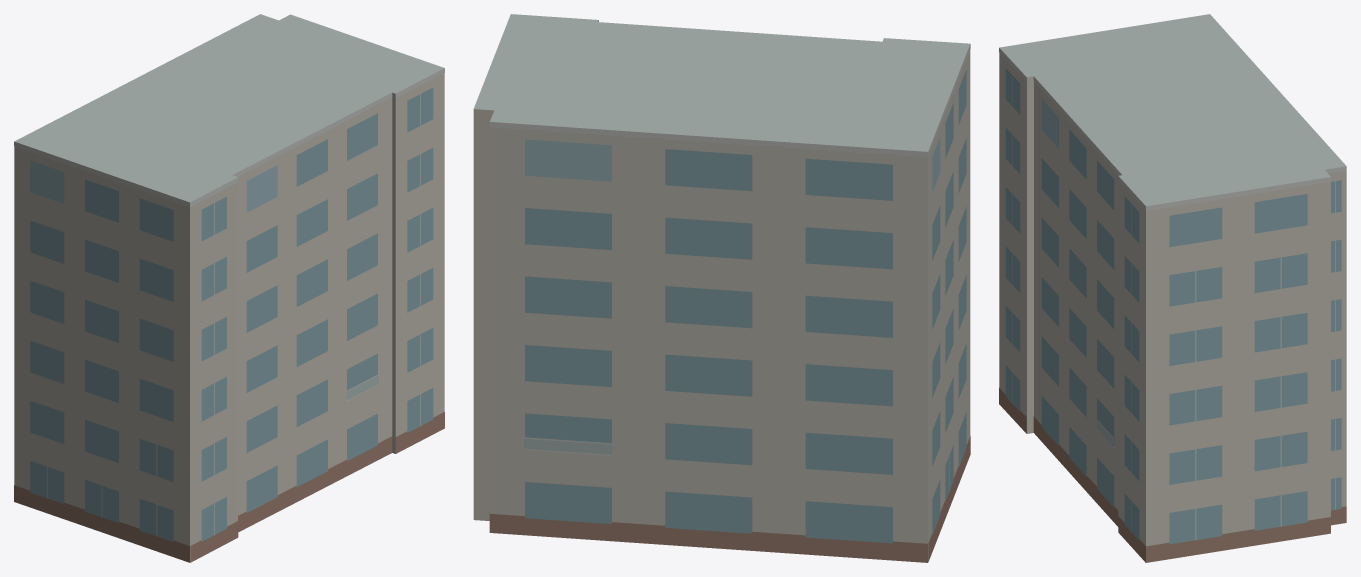
The model's file is survey-upis-32522262.glb.
3 renders of one model, left to right at view 1: azimuth 30°, elevation 25°; view 2: azimuth 150°, elevation 25°; view 3: azimuth 270°, elevation 25°, orthographic. The views are drawn at different scales.
Visible parts, largest first — view 1: survey-upis-32522262.tmp; view 2: survey-upis-32522262.tmp; view 3: survey-upis-32522262.tmp.
Boxes of the visible parts, x1,y1,x2,y2 form: survey-upis-32522262.tmp: [14, 14, 444, 562]; survey-upis-32522262.tmp: [473, 14, 970, 562]; survey-upis-32522262.tmp: [999, 14, 1346, 562].
Size of the model in its own units: 21.17 by 18.3 by 16.17.
